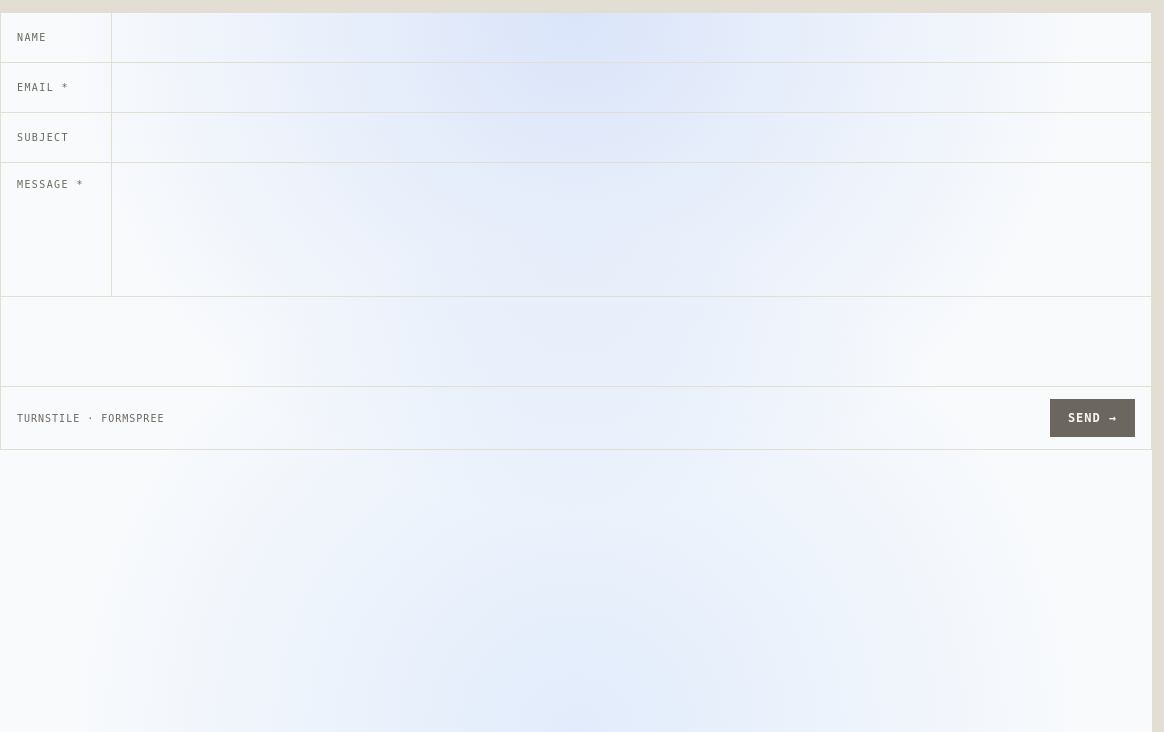
Test: V3ContactForm submission › asks for verification when submitted before Turnstile is solved
Step 1. Type "ada@example.com" into the field labelled "EMAIL *" → coordinates (631, 88), box [111,63,1151,112]
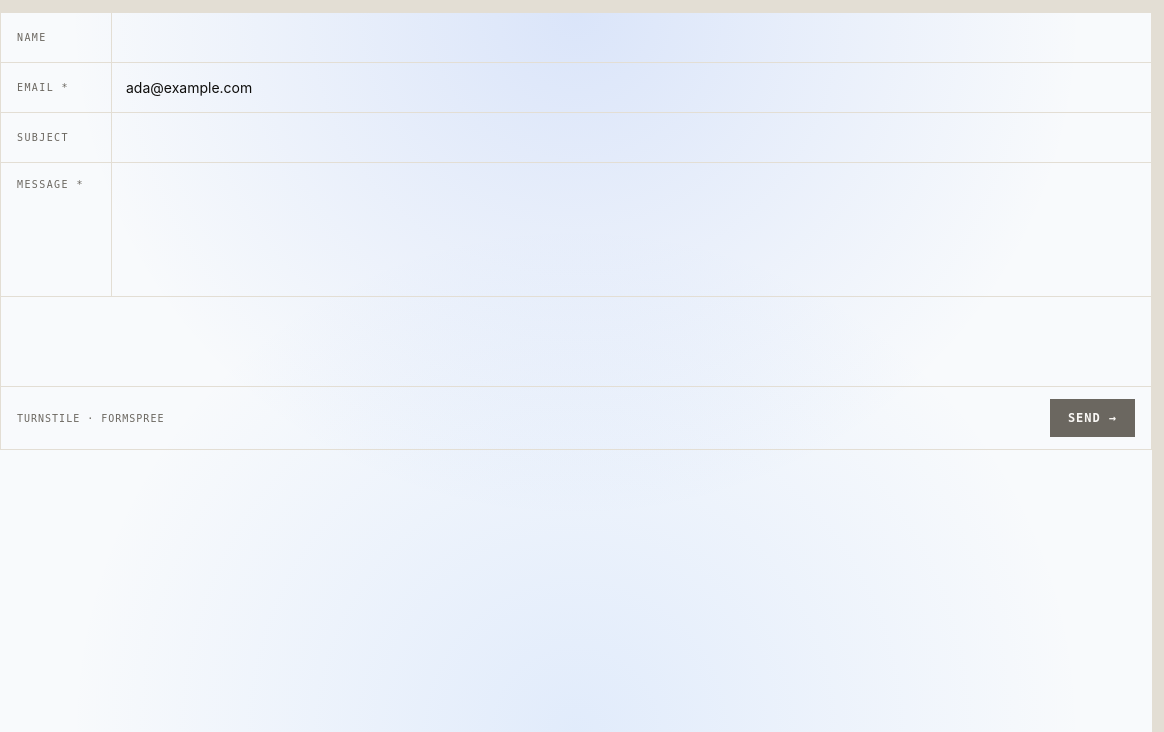
Step 2. Type "Hello there" into the text box labelled "MESSAGE *" → coordinates (631, 230), box [111,163,1151,296]
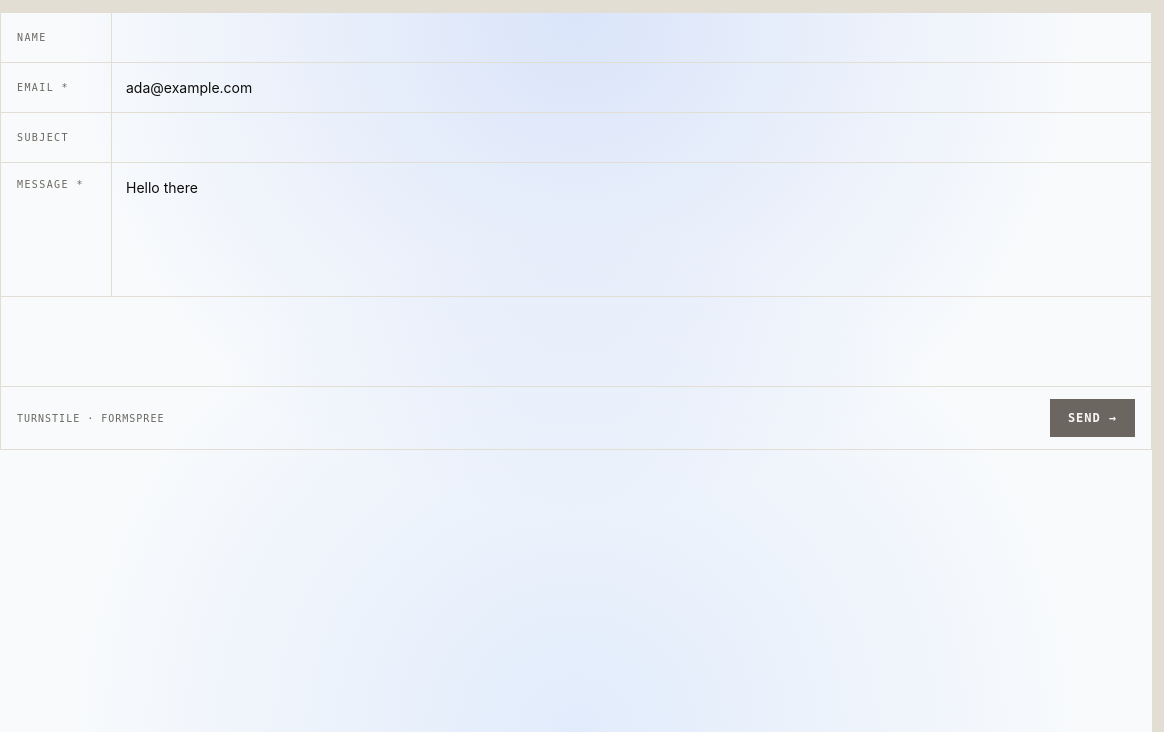
Step 3. Submit the form from the button "SEND →", box [1050,399,1135,437]
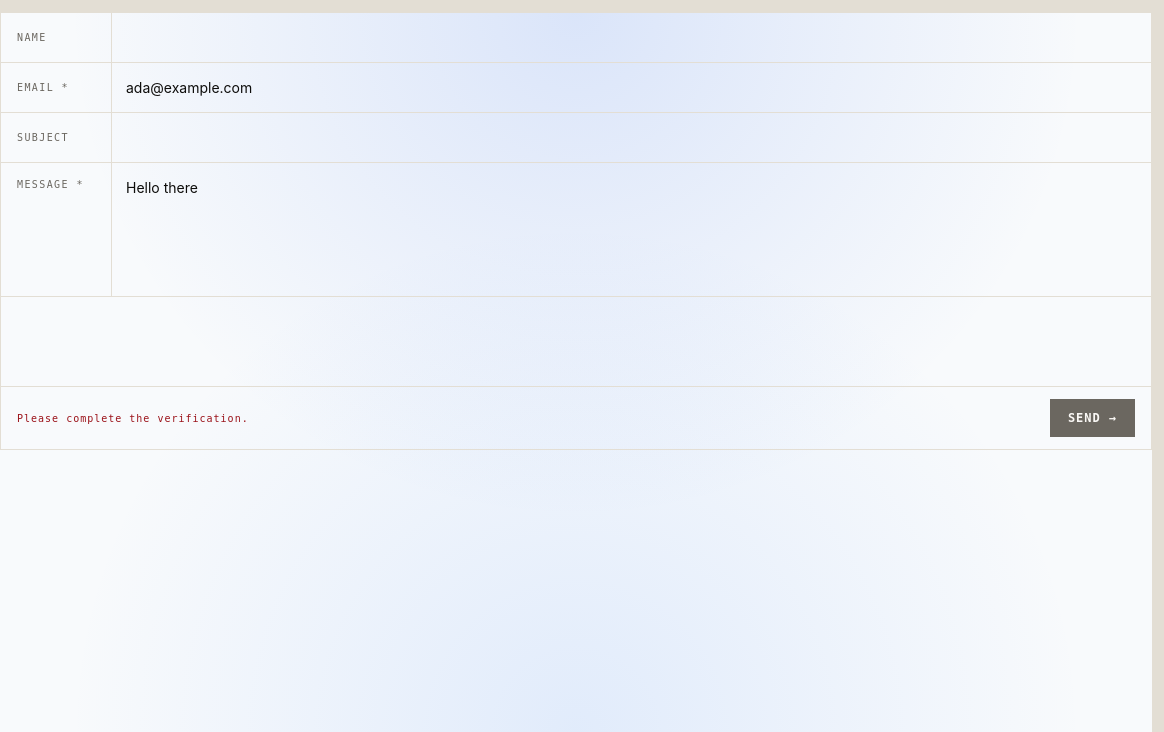
Expected: the message reads "Please complete the verification.", [17,412,249,424]
